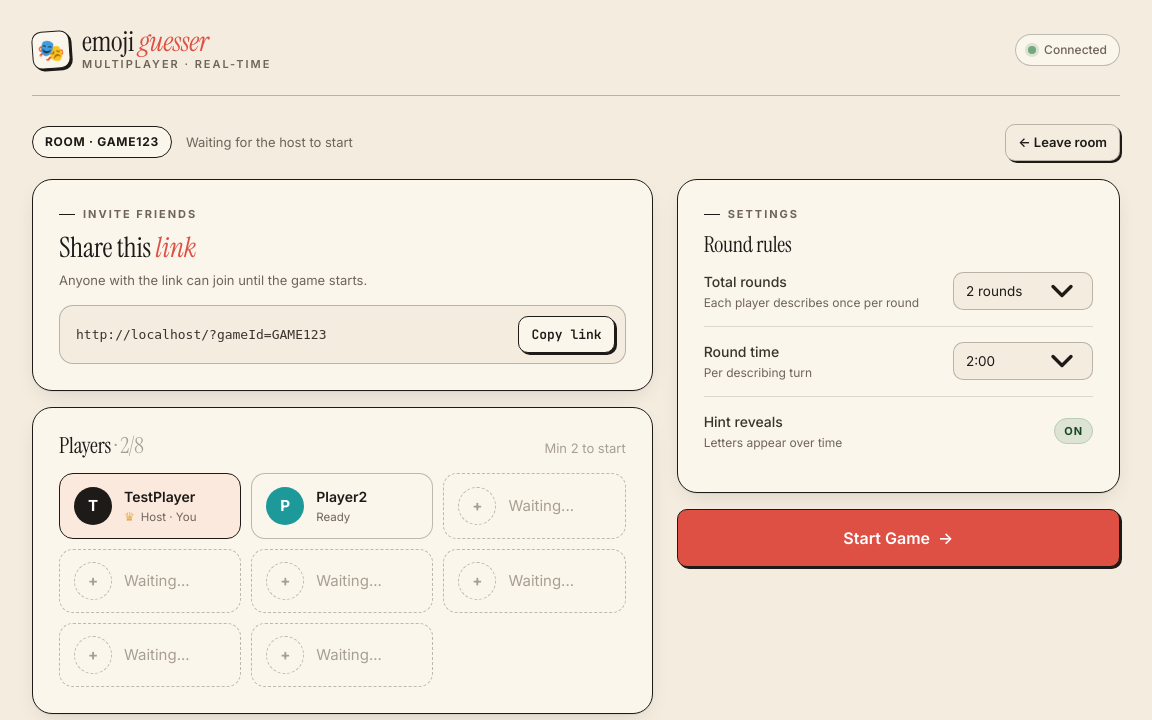
Test: App - editing your name in the lobby › falls back to the name in the game once the field is emptied
Step 1. Click the button "TestPlayer" → click(160, 496), box [124,486,195,507]
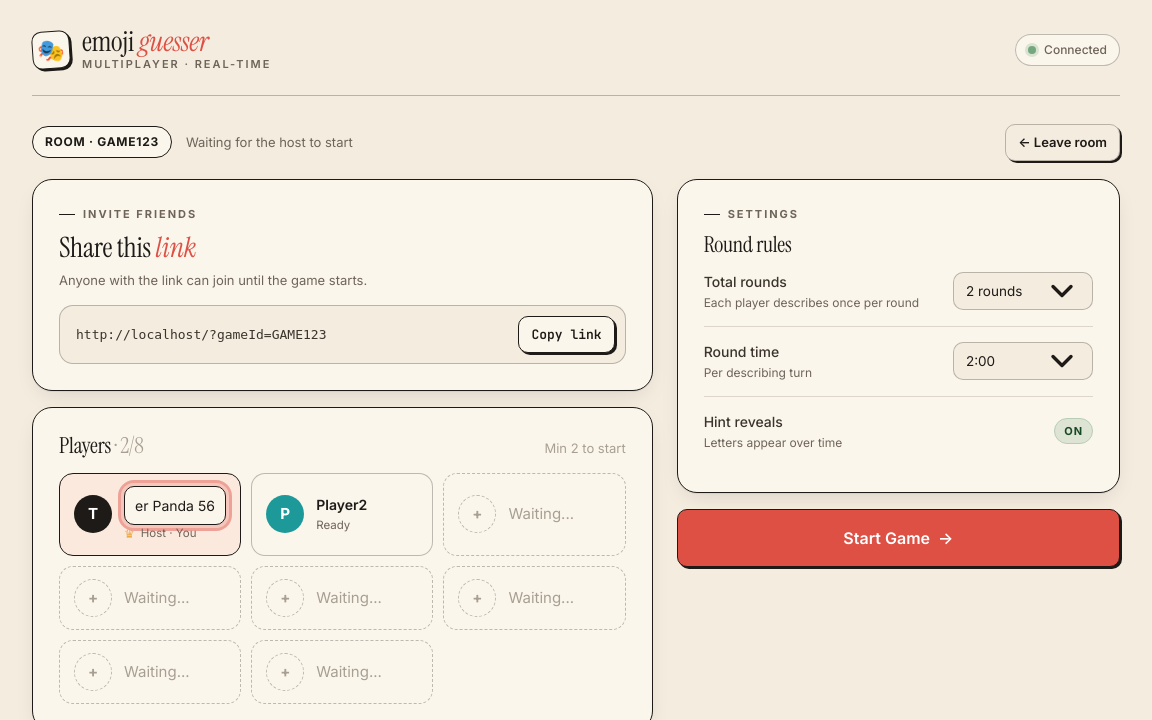
Step 2. Clear the field with placeholder "Enter your name (required)" → (175, 505), box [124,486,226,525]
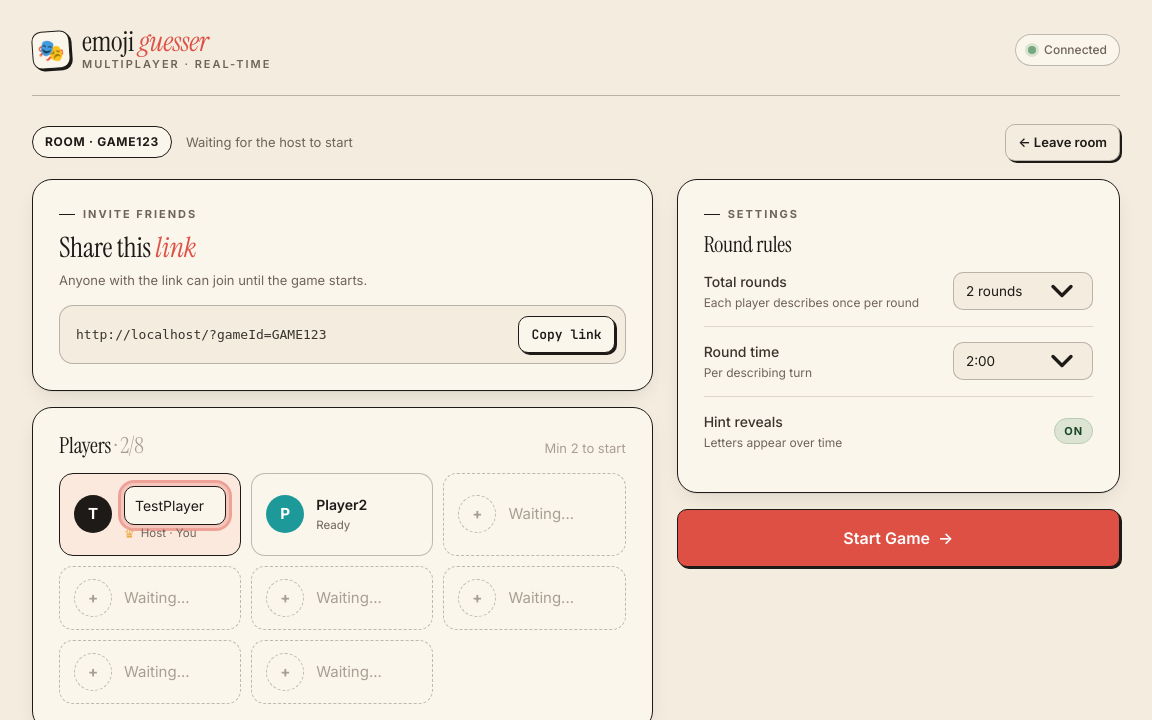
Expected: the field with placeholder "Enter your name (required)" holds "TestPlayer", [124,486,226,525]
